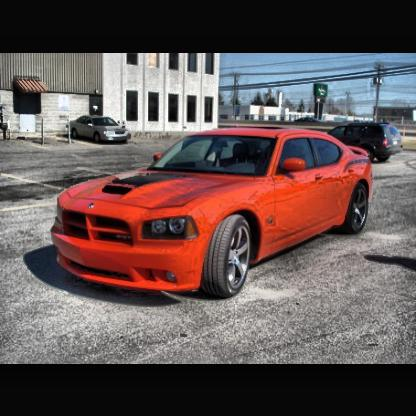Dodge Charger SRT-8 2009: (51, 122, 374, 303)
